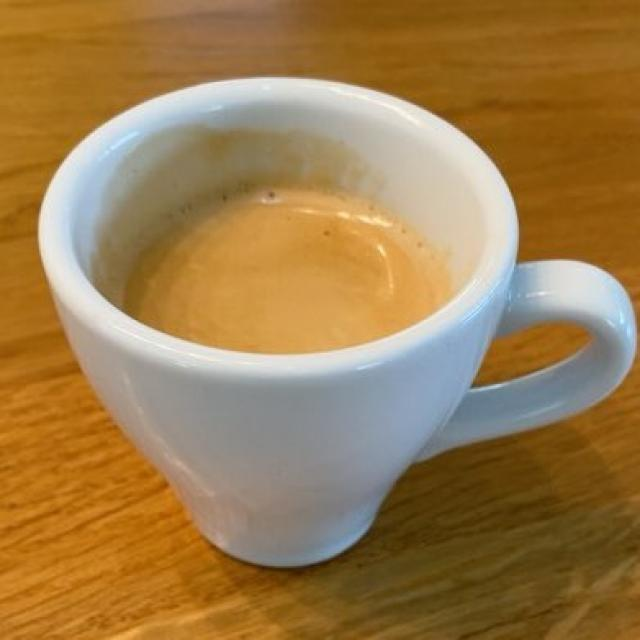espresso: (122, 190, 451, 350)
